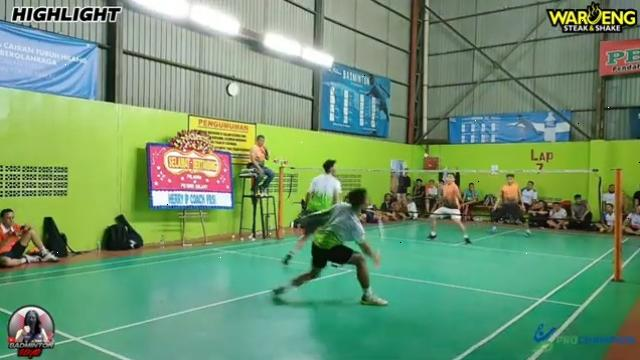Shuttlecock: (422, 152, 432, 162)
